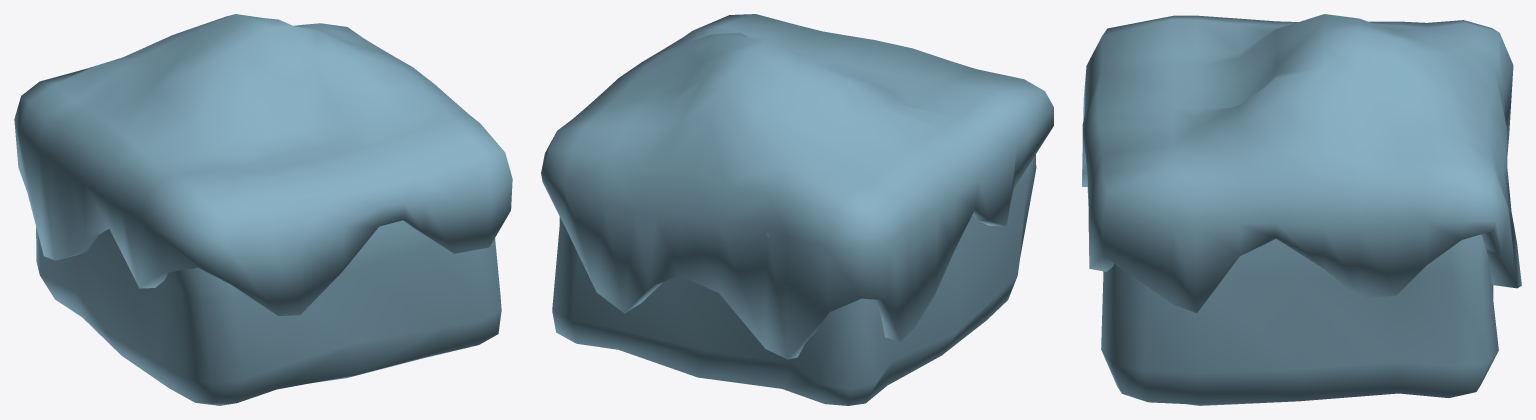
Rendered from iceblock_inside.fbx.
The picture shows the model from 3 angles, left to right: view 1: azimuth 30°, elevation 25°; view 2: azimuth 150°, elevation 25°; view 3: azimuth 270°, elevation 25°; orthographic projection. The views are drawn at different scales.
Parts seen in each view (by area): view 1: 얼음1바닥.002; view 2: 얼음1바닥.002; view 3: 얼음1바닥.002.
Part boxes in pixels (x1=…): 얼음1바닥.002: x1=14, y1=14, x2=512, y2=405; 얼음1바닥.002: x1=541, y1=14, x2=1053, y2=405; 얼음1바닥.002: x1=1082, y1=14, x2=1521, y2=405.
Bounding box in the file's own units: 219 × 177 × 221.
